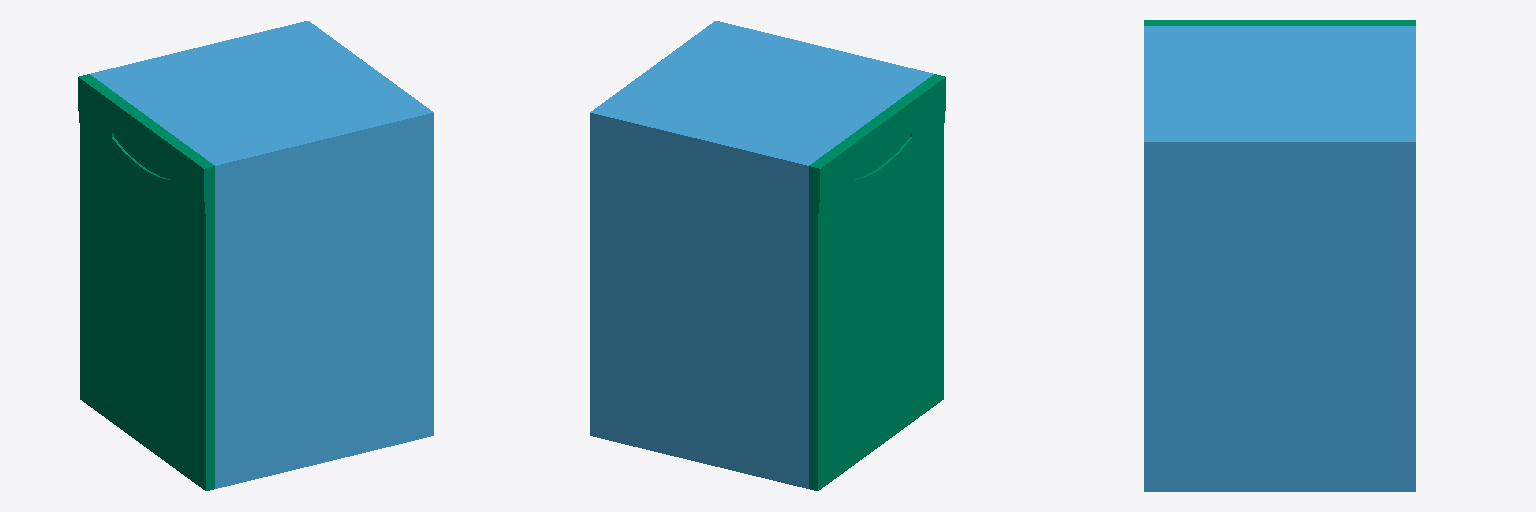
The robot description file, URDF, robot "partnet_3ca503ae899826e88bb4434d620302e3":
<?xml version="1.0" ?>
<robot name="partnet_3ca503ae899826e88bb4434d620302e3">
	<link name="base"/>
	<link name="link_0">
		<visual name="frame-14">
			<origin xyz="0 0 0"/>
			<geometry>
				<mesh filename="textured_objs/new-3.obj"/>
			</geometry>
		</visual>
		<visual name="frame-14">
			<origin xyz="0 0 0"/>
			<geometry>
				<mesh filename="textured_objs/new-10.obj"/>
			</geometry>
		</visual>
		<collision>
			<origin xyz="0 0 0"/>
			<geometry>
				<mesh filename="textured_objs/new-3.obj"/>
			</geometry>
		</collision>
		<collision>
			<origin xyz="0 0 0"/>
			<geometry>
				<mesh filename="textured_objs/new-10.obj"/>
			</geometry>
		</collision>
	</link>
	<joint name="joint_0" type="fixed">
		<origin rpy="1.570796326794897 0 -1.570796326794897" xyz="0 0 0"/>
		<child link="link_0"/>
		<parent link="base"/>
	</joint>
	<link name="link_1">
		<visual name="door_frame-21">
			<origin xyz="-0.4790749999999999 0.6802666772360149 -0.476399727258044"/>
			<geometry>
				<mesh filename="textured_objs/new-4.obj"/>
			</geometry>
		</visual>
		<visual name="door_frame-21">
			<origin xyz="-0.4790749999999999 0.6802666772360149 -0.476399727258044"/>
			<geometry>
				<mesh filename="textured_objs/new-9.obj"/>
			</geometry>
		</visual>
		<visual name="handle-22">
			<origin xyz="-0.4790749999999999 0.6802666772360149 -0.476399727258044"/>
			<geometry>
				<mesh filename="textured_objs/new-5.obj"/>
			</geometry>
		</visual>
		<visual name="control_button-17">
			<origin xyz="-0.4790749999999999 0.6802666772360149 -0.476399727258044"/>
			<geometry>
				<mesh filename="textured_objs/new-8.obj"/>
			</geometry>
		</visual>
		<visual name="control_button-18">
			<origin xyz="-0.4790749999999999 0.6802666772360149 -0.476399727258044"/>
			<geometry>
				<mesh filename="textured_objs/new-6.obj"/>
			</geometry>
		</visual>
		<visual name="control_panel-19">
			<origin xyz="-0.4790749999999999 0.6802666772360149 -0.476399727258044"/>
			<geometry>
				<mesh filename="textured_objs/new-7.obj"/>
			</geometry>
		</visual>
		<collision>
			<origin xyz="-0.4790749999999999 0.6802666772360149 -0.476399727258044"/>
			<geometry>
				<mesh filename="textured_objs/new-4.obj"/>
			</geometry>
		</collision>
		<collision>
			<origin xyz="-0.4790749999999999 0.6802666772360149 -0.476399727258044"/>
			<geometry>
				<mesh filename="textured_objs/new-9.obj"/>
			</geometry>
		</collision>
		<collision>
			<origin xyz="-0.4790749999999999 0.6802666772360149 -0.476399727258044"/>
			<geometry>
				<mesh filename="textured_objs/new-5.obj"/>
			</geometry>
		</collision>
		<collision>
			<origin xyz="-0.4790749999999999 0.6802666772360149 -0.476399727258044"/>
			<geometry>
				<mesh filename="textured_objs/new-8.obj"/>
			</geometry>
		</collision>
		<collision>
			<origin xyz="-0.4790749999999999 0.6802666772360149 -0.476399727258044"/>
			<geometry>
				<mesh filename="textured_objs/new-6.obj"/>
			</geometry>
		</collision>
		<collision>
			<origin xyz="-0.4790749999999999 0.6802666772360149 -0.476399727258044"/>
			<geometry>
				<mesh filename="textured_objs/new-7.obj"/>
			</geometry>
		</collision>
	</link>
	<joint name="joint_1" type="revolute">
		<origin xyz="0.4790749999999999 -0.6802666772360149 0.476399727258044"/>
		<axis xyz="1 0 0"/>
		<child link="link_1"/>
		<parent link="link_0"/>
		<limit lower="0.0" upper="1.5707963267948966"/>
	</joint>
</robot>

--- Render facts (derived) ---
3 views of the same robot in one strip: view 1: azimuth 30°, elevation 25°; view 2: azimuth 150°, elevation 25°; view 3: azimuth 270°, elevation 25° (orthographic).
Robot: partnet_3ca503ae899826e88bb4434d620302e3 — 3 links, 2 joints (1 revolute, 1 fixed); root link base; default pose: all joints at 0.
Links seen in each view (by area): view 1: link_0, link_1; view 2: link_0, link_1; view 3: link_0, link_1.
Boxes of the visible links, box(x1,y1,x2,y2) form: link_0: box(90, 21, 433, 488); link_1: box(78, 74, 214, 490); link_0: box(590, 21, 933, 488); link_1: box(809, 74, 945, 490); link_0: box(1144, 26, 1415, 491); link_1: box(1144, 20, 1415, 25).
Bounding box of the posed robot: 1.04 × 0.9831 × 1.4 m (x, y, z).
5 mesh visuals loaded from 8 distinct referenced files (5 OBJ); not drawn: 3 (reference not matched to a file when rendering).
